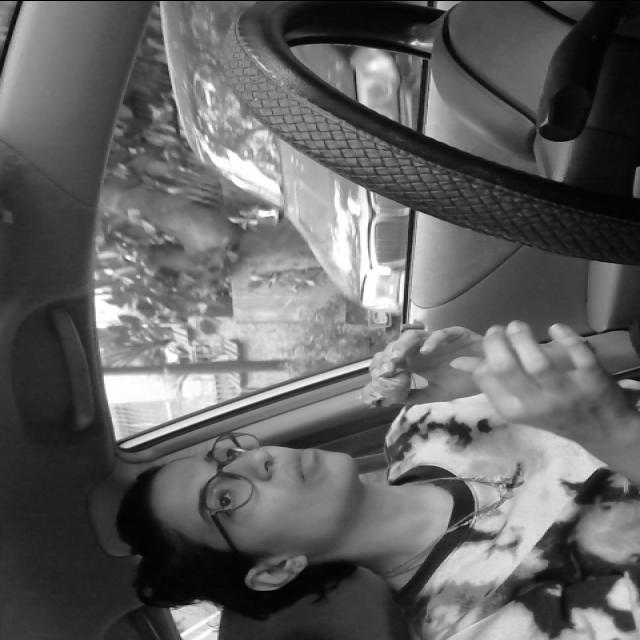eating: (352, 356, 414, 417)
